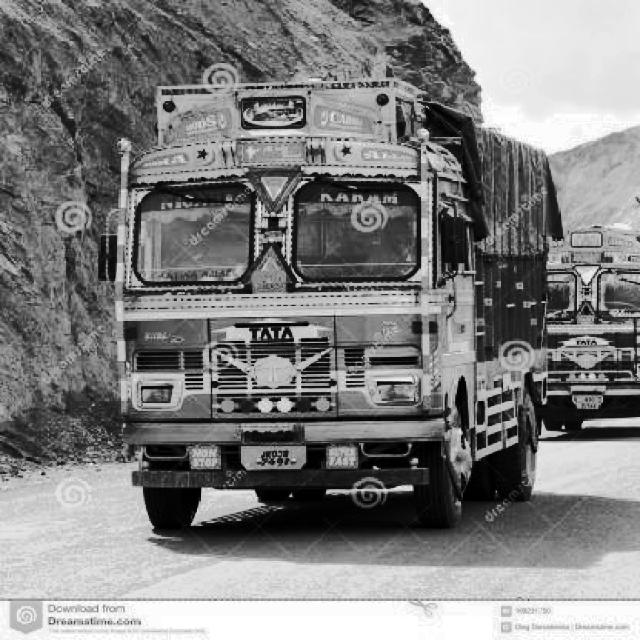HCV: (80, 82, 550, 536), (558, 226, 640, 422)
